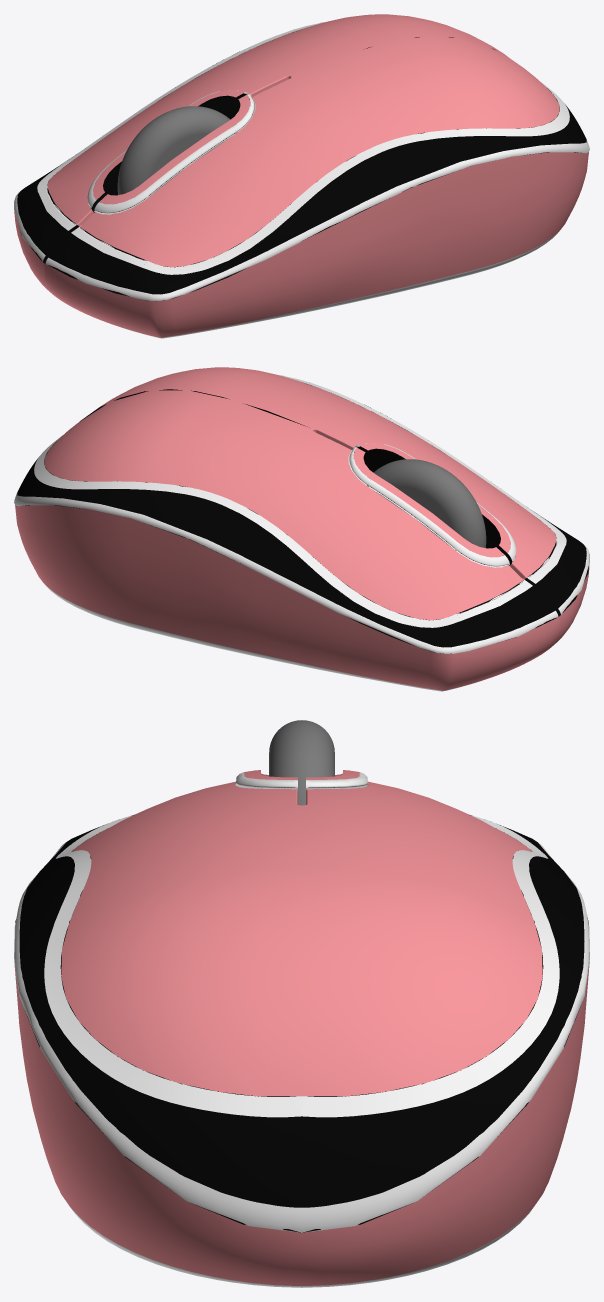
The model's file is computer_mouse.dae.
3 views of the same model, one above another, from view 1: azimuth 30°, elevation 25°; view 2: azimuth 150°, elevation 25°; view 3: azimuth 270°, elevation 25° (orthographic). The views are drawn at different scales.
Visible parts, largest first — view 1: mesh_2_DeleteFace9_11__face, mesh_3_DeleteFace9_7__face, mesh_1_compute_002, mesh_4_DeleteFace9_1__face; view 2: mesh_2_DeleteFace9_11__face, mesh_3_DeleteFace9_7__face, mesh_1_compute_002, mesh_4_DeleteFace9_1__face; view 3: mesh_2_DeleteFace9_11__face, mesh_3_DeleteFace9_7__face, mesh_1_compute_002, mesh_4_DeleteFace9_1__face.
Part boxes in pixels (<box>): mesh_2_DeleteFace9_11__face: <box>14,14,588,337</box>; mesh_3_DeleteFace9_7__face: <box>17,30,587,301</box>; mesh_1_compute_002: <box>14,22,589,338</box>; mesh_4_DeleteFace9_1__face: <box>117,106,235,194</box>; mesh_2_DeleteFace9_11__face: <box>15,367,589,690</box>; mesh_3_DeleteFace9_7__face: <box>16,383,588,653</box>; mesh_1_compute_002: <box>14,375,589,691</box>; mesh_4_DeleteFace9_1__face: <box>368,459,486,547</box>; mesh_2_DeleteFace9_11__face: <box>14,770,589,1285</box>; mesh_3_DeleteFace9_7__face: <box>15,815,588,1232</box>; mesh_1_compute_002: <box>14,772,589,1287</box>; mesh_4_DeleteFace9_1__face: <box>269,720,334,805</box>.
Size of the model in its own units: 0.12 by 0.07 by 0.041.
